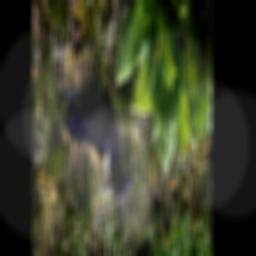Crow: (63, 48, 134, 206)
